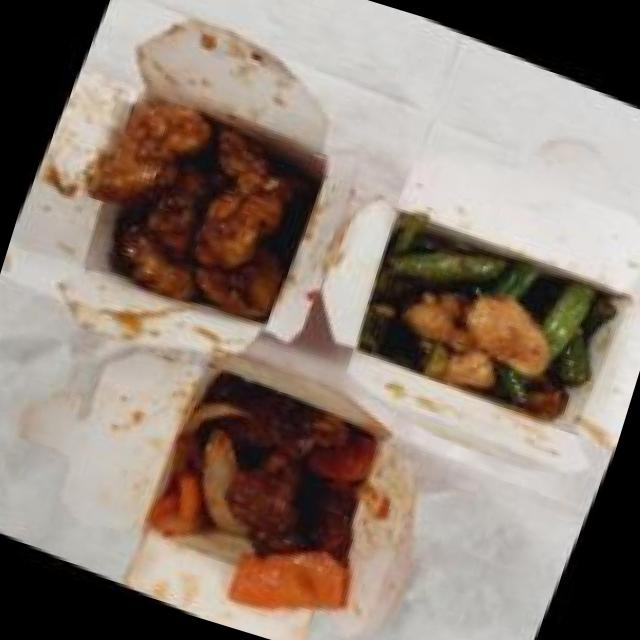Beijing Beef: (118, 346, 416, 630)
String Bean Chicken Breast: (346, 202, 635, 446)
The Original Orange Chicken: (46, 65, 348, 348)
